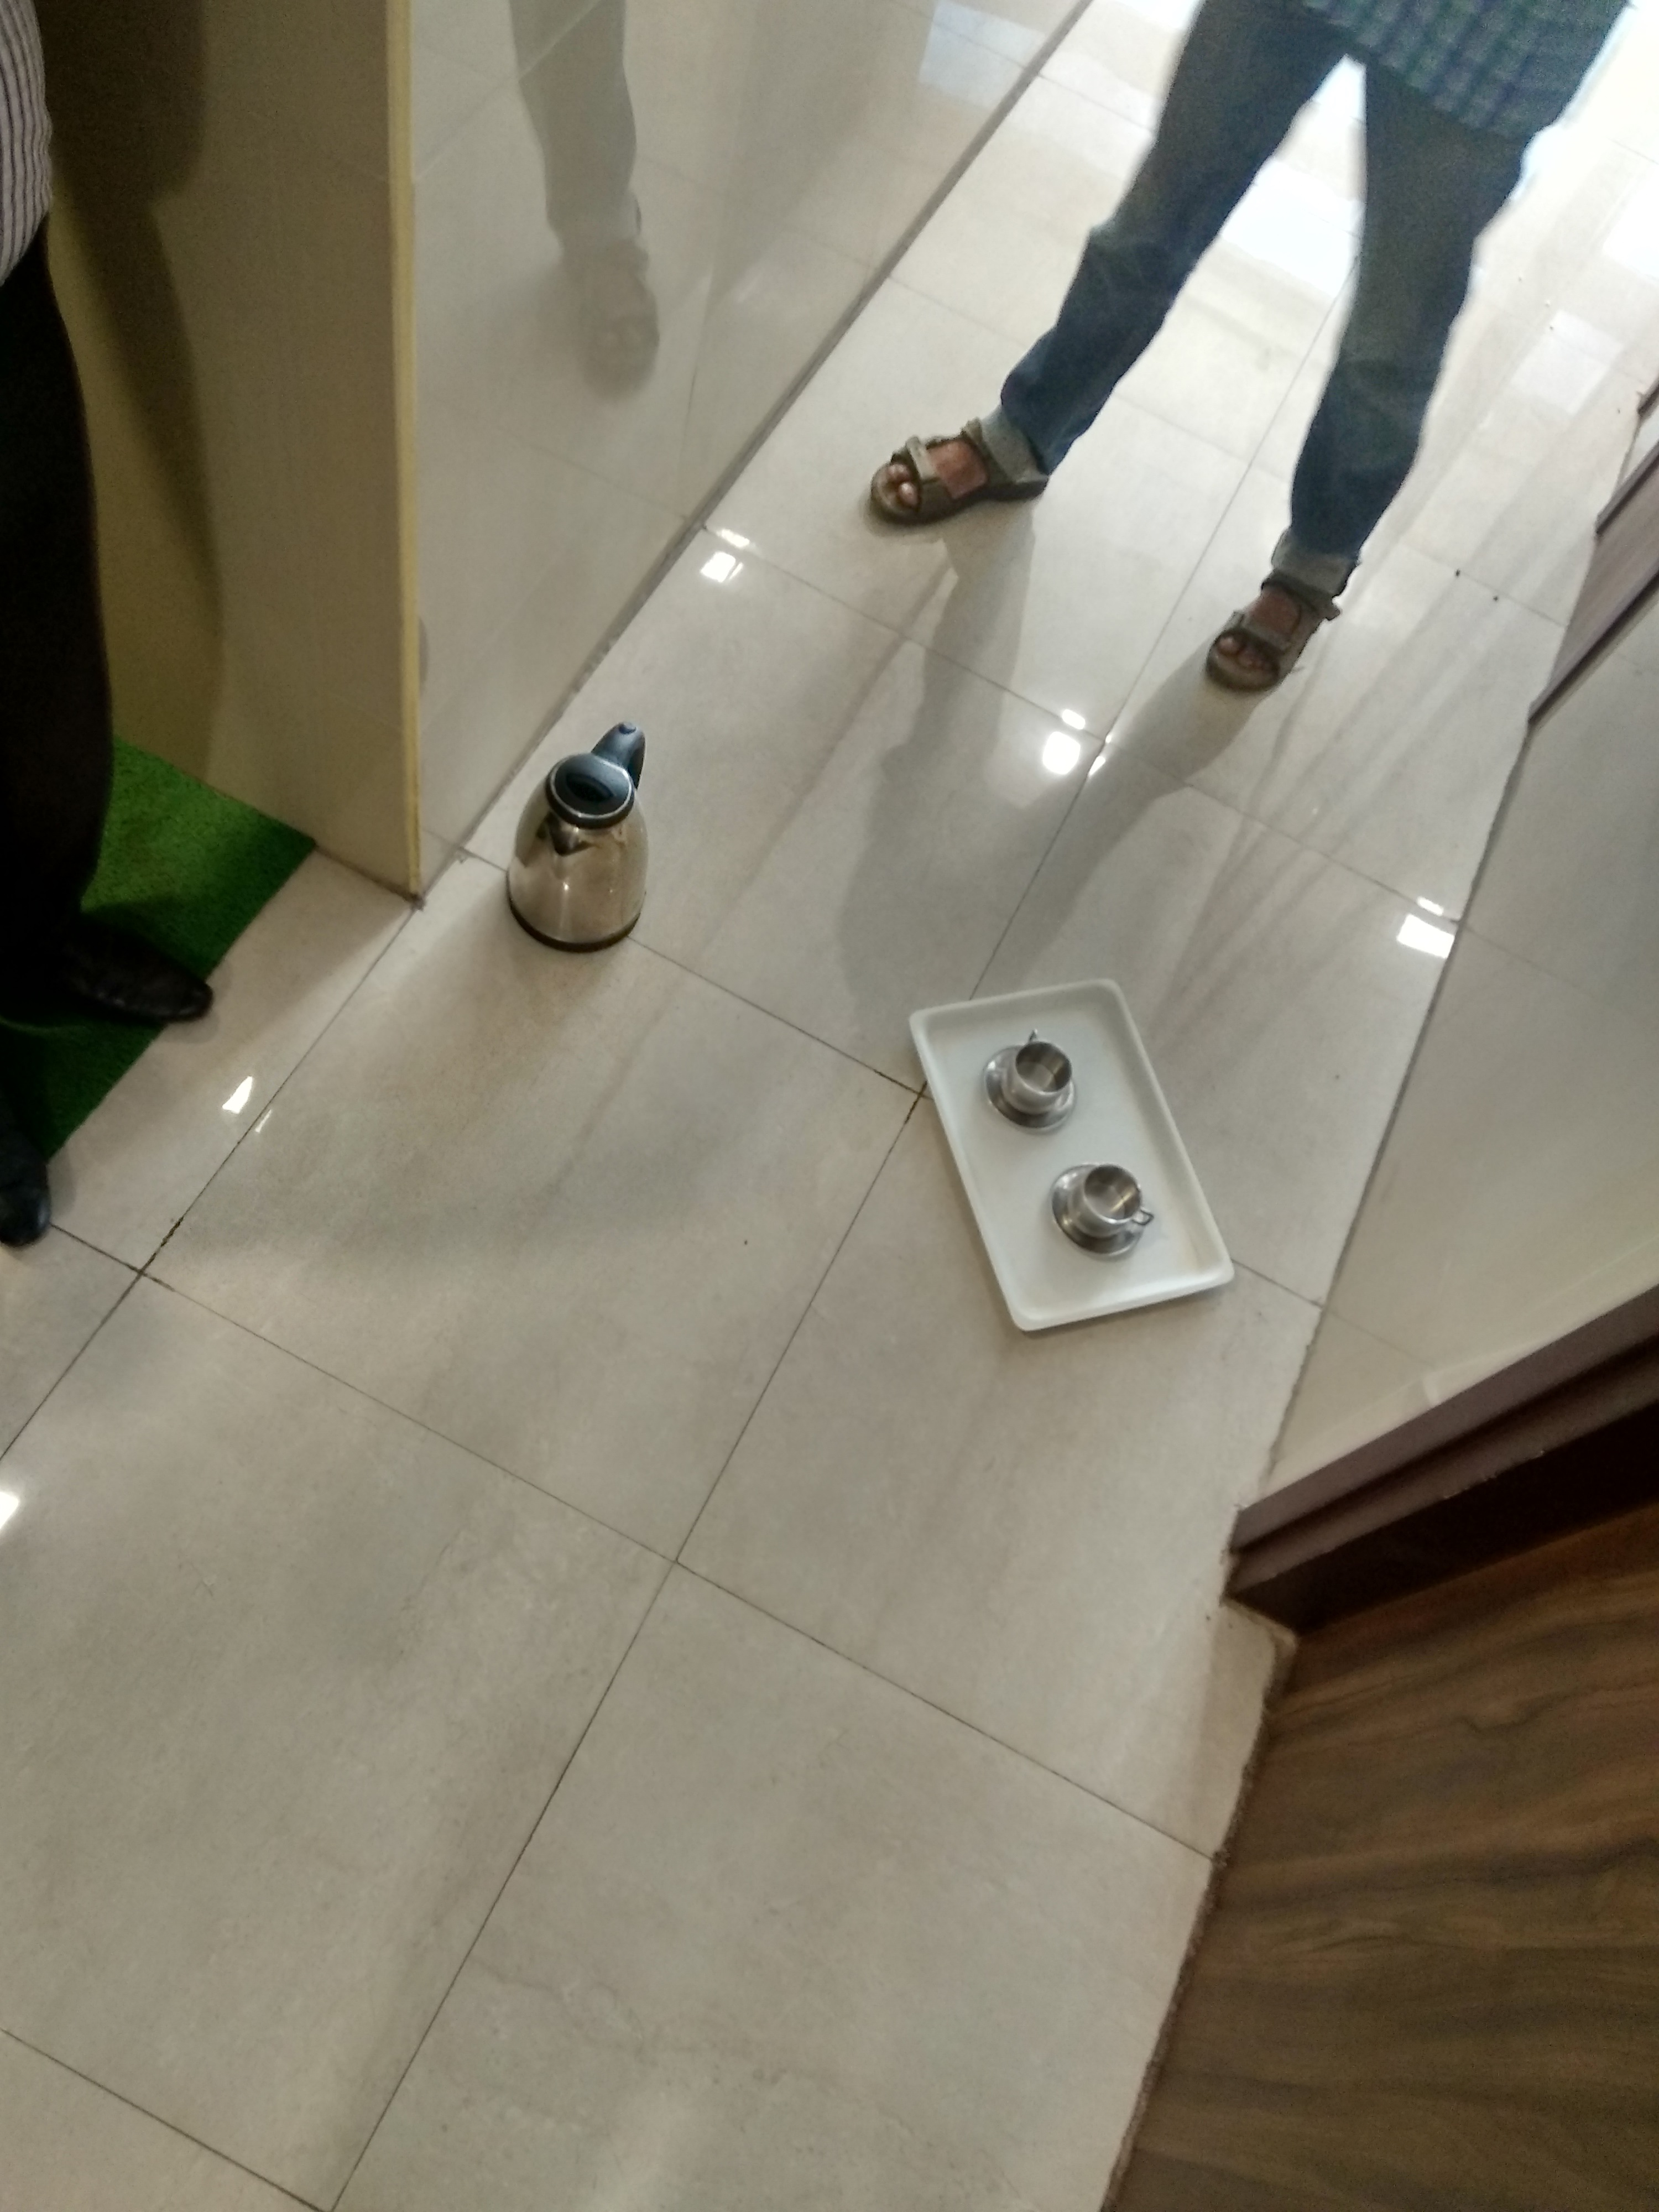CUP: (988, 1049, 1087, 1115), (1061, 1170, 1145, 1235)
FLASK: (545, 733, 652, 954)
